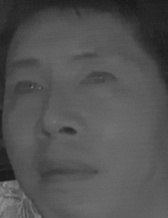eye: (80, 66, 118, 90), (11, 78, 43, 99)
mouth: (32, 152, 99, 189)
